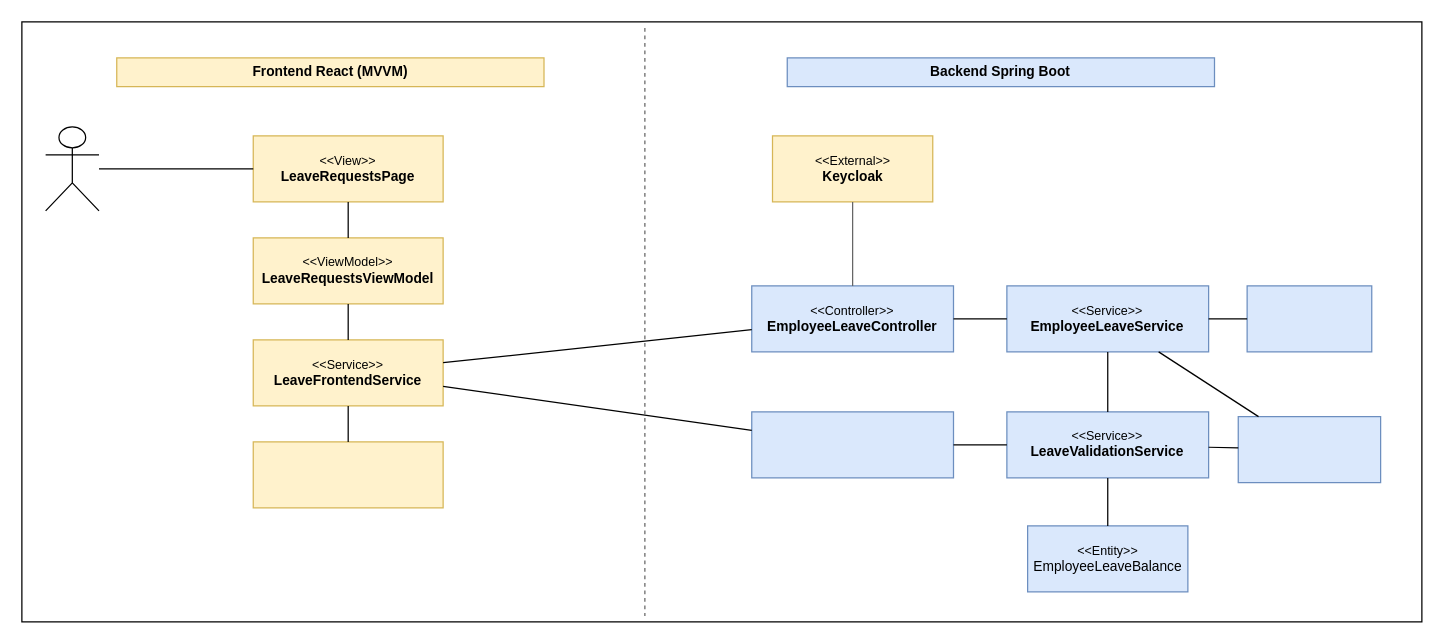
Some shapes in this 1444 by 644 pixel diagram are drawn without their labels. The centre of each missing label's shape, as x and y in pixels:
"<<Controller>> CalendarLeaveController" goes at pixel 852 444.
"<<DTO>> LeaveRequestDto" goes at pixel 1309 318.
"<<DTO>> LeaveRequestFormDto" goes at pixel 347 474.
"<<Entity>> LeaveRequest" goes at pixel 1309 449.
"Employee" goes at pixel 71 168.
